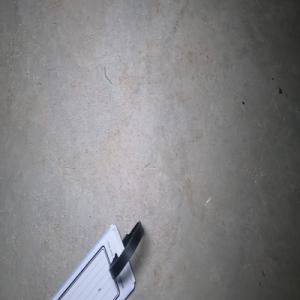LuggageTag: (47, 219, 145, 300)
